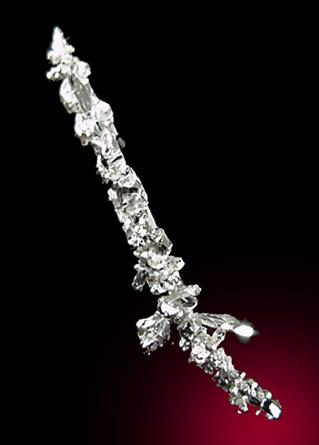silver: (46, 27, 282, 421)
